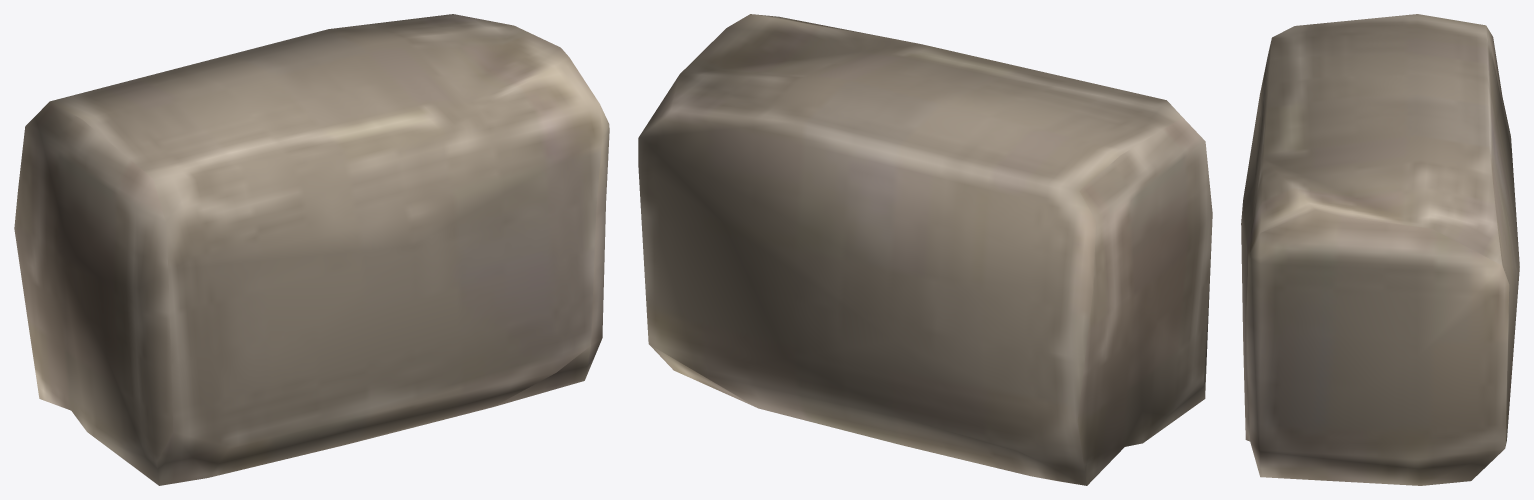
File: prop-qm-propbrick3.glb
3 renders of one model, left to right at view 1: azimuth 30°, elevation 25°; view 2: azimuth 150°, elevation 25°; view 3: azimuth 270°, elevation 25°, orthographic. The views are drawn at different scales.
Parts seen in each view (by area): view 1: Cube_017_Retopology_002; view 2: Cube_017_Retopology_002; view 3: Cube_017_Retopology_002.
Boxes of the visible parts, x1,y1,x2,y2 form: Cube_017_Retopology_002: (14,14,609,485); Cube_017_Retopology_002: (638,14,1212,485); Cube_017_Retopology_002: (1241,14,1519,485).
Bounding box in the file's own units: 0.3814 × 0.2497 × 0.2156.
1 material, 1 textured.
